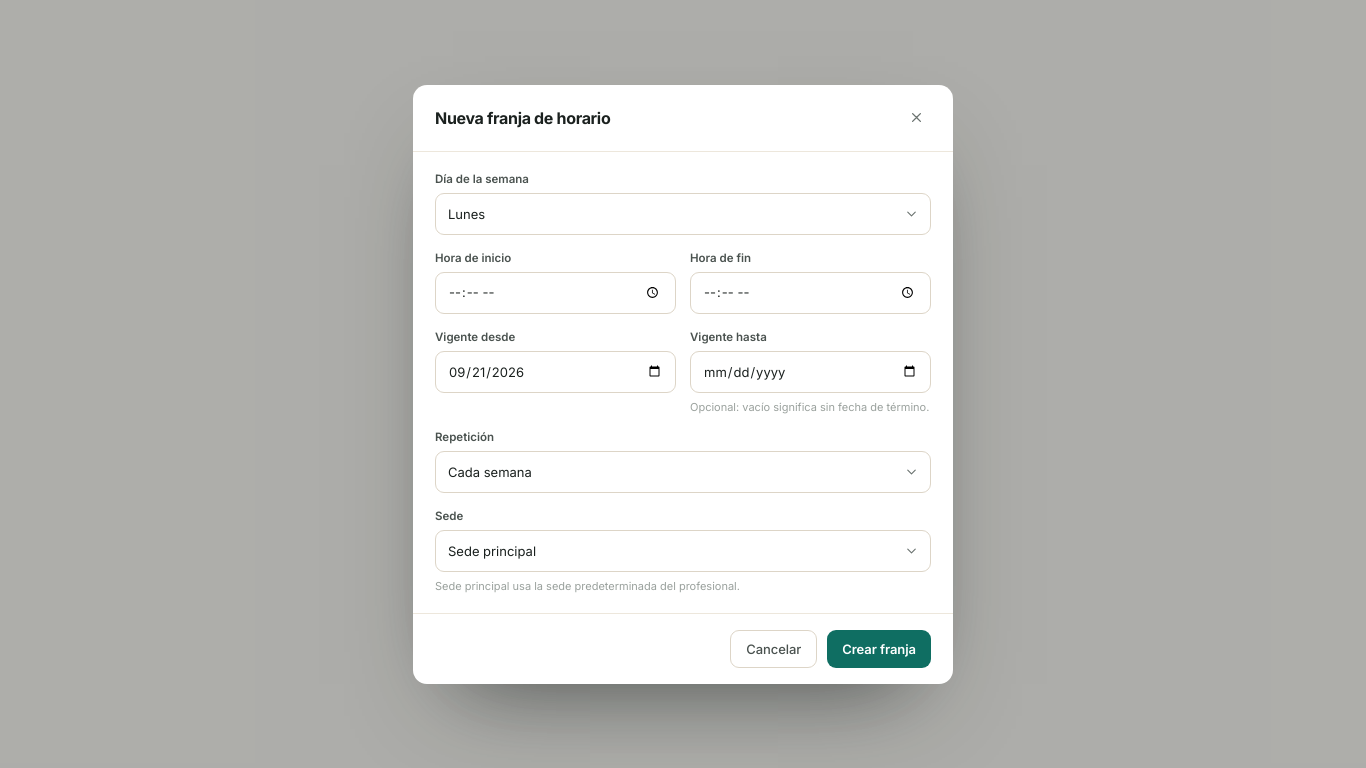
Scenario: WorkScheduleModal validation › blocks a range where the end is not after the start and does not submit
Type "09:00" into the time field labelled "Hora de inicio" at (556,292), box left=435, top=272, right=676, bottom=314
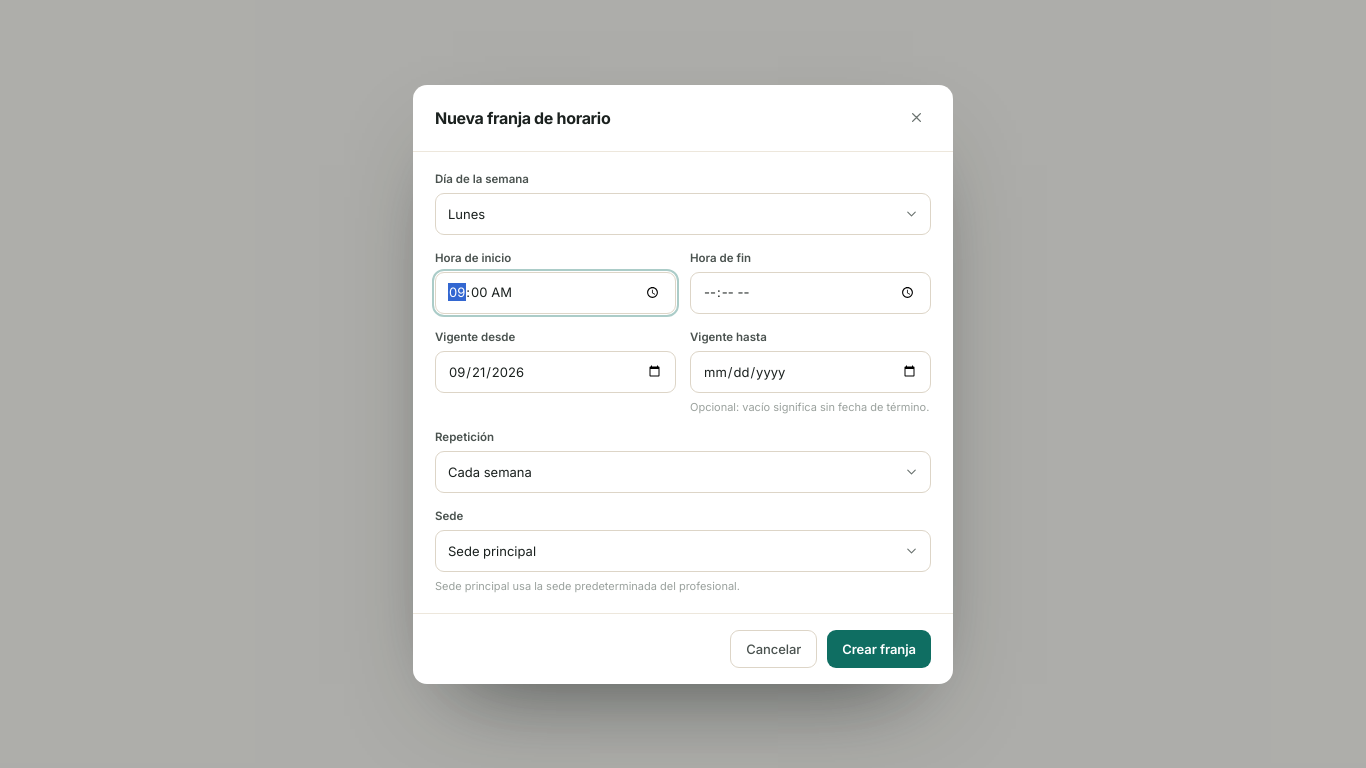
Type "08:00" into the time field labelled "Hora de fin" at (810,292), box left=690, top=272, right=931, bottom=314
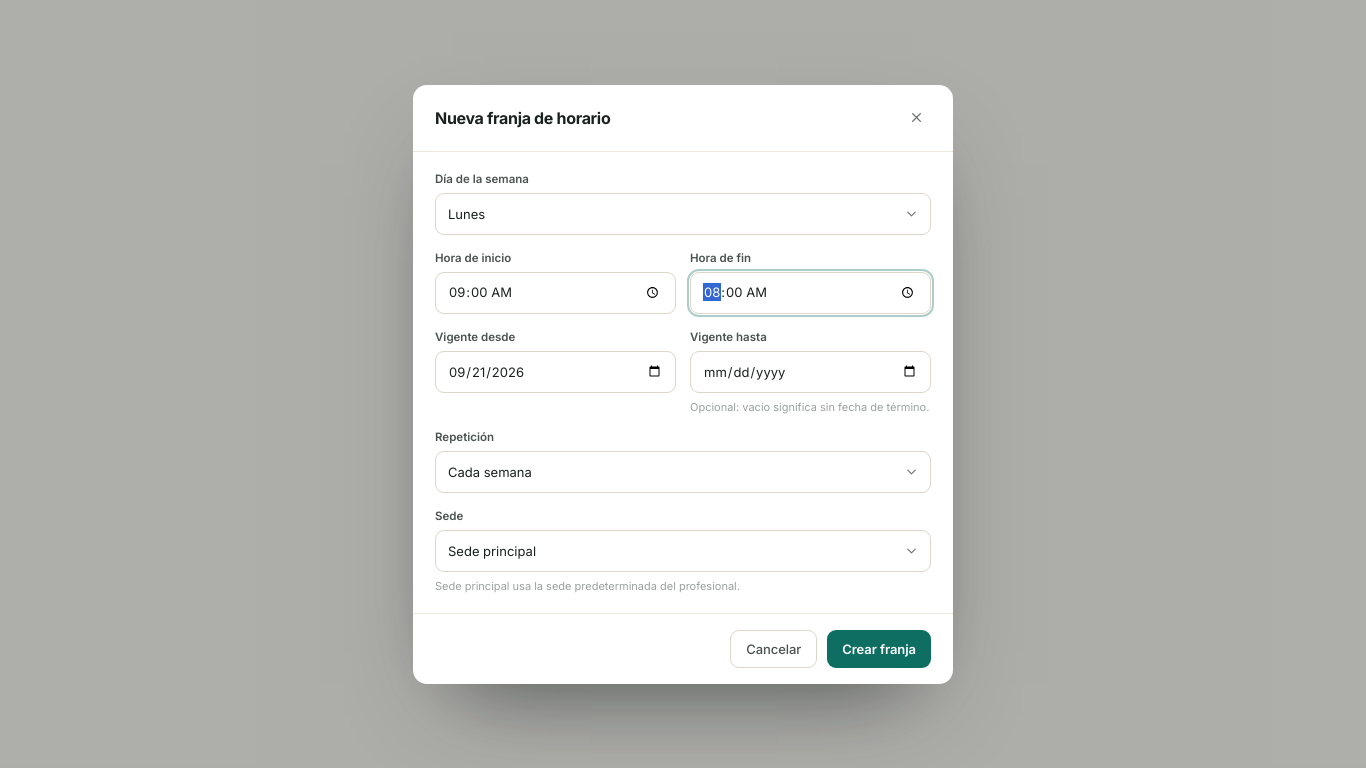
Click the button "Crear franja" at (879,648), box left=827, top=630, right=931, bottom=668
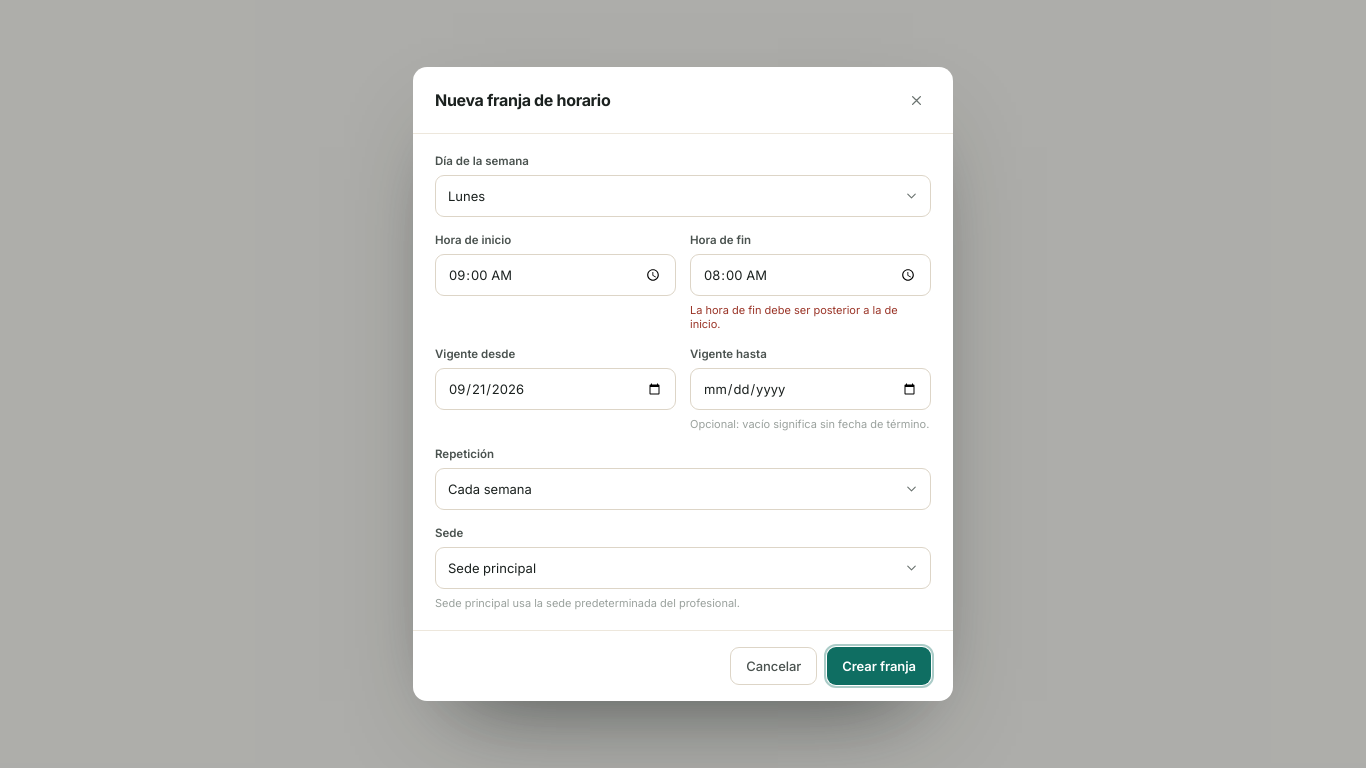
Now the text "La hora de fin debe ser posterior a la de inicio." is shown, box left=690, top=303, right=931, bottom=331
